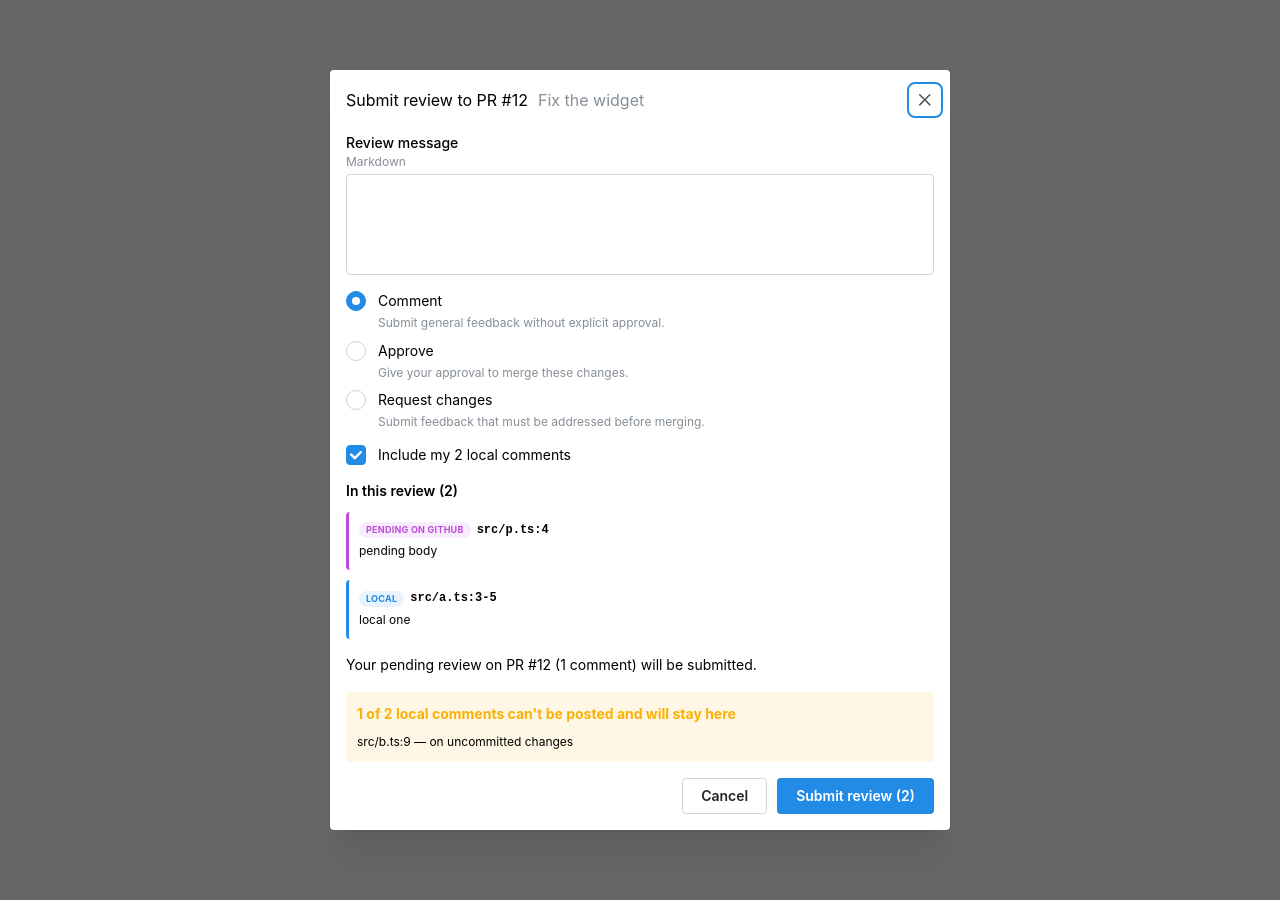
Test case: SubmitReviewModal › submits, closes and toasts
Expected: the text "In this review (2)" is shown, [346,482,458,499]
Click the radio button labelled "Approve". click: (356, 351)
box: [346,341,366,361]
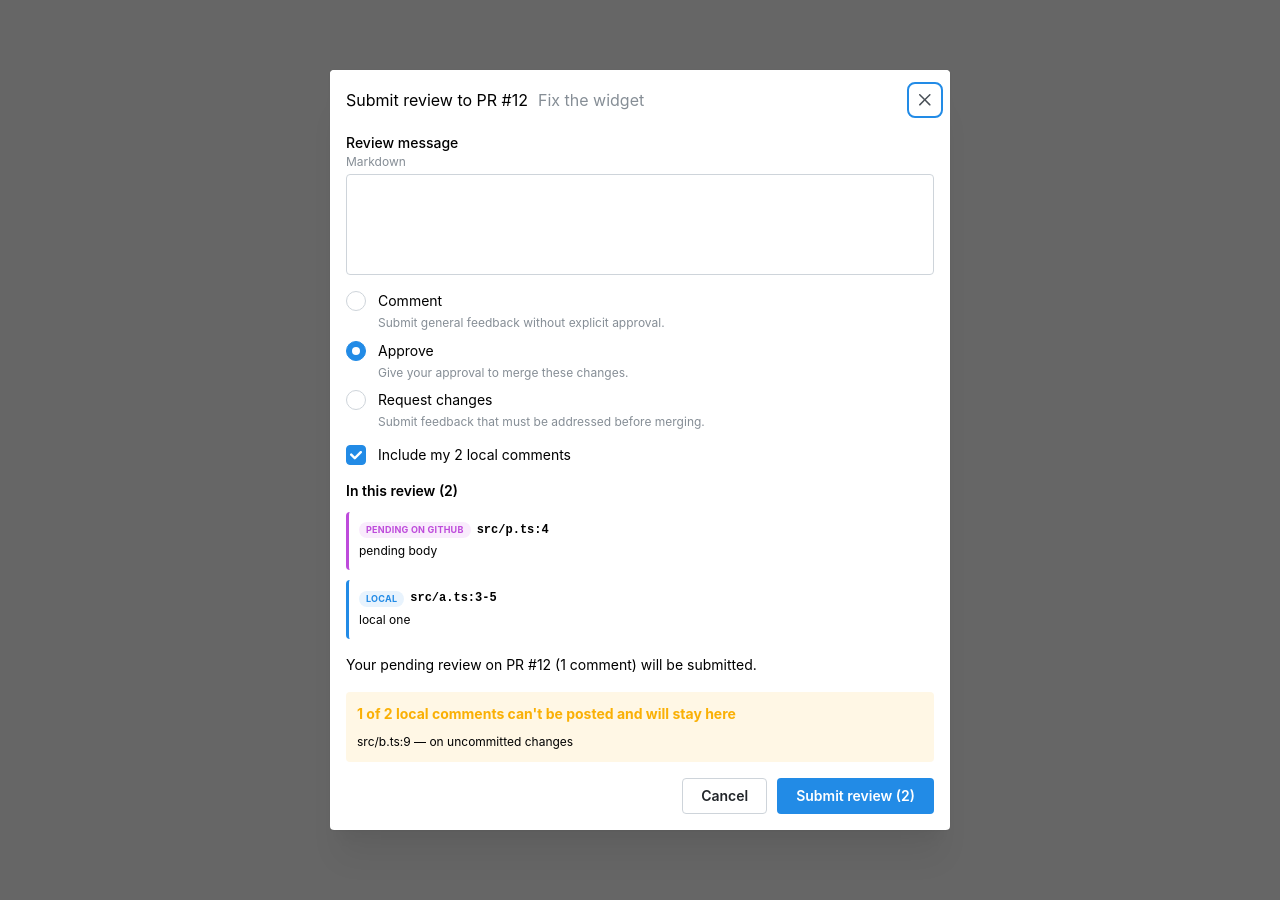
Click the button "Submit review (2)". click: (856, 796)
box: [777,778,934,814]
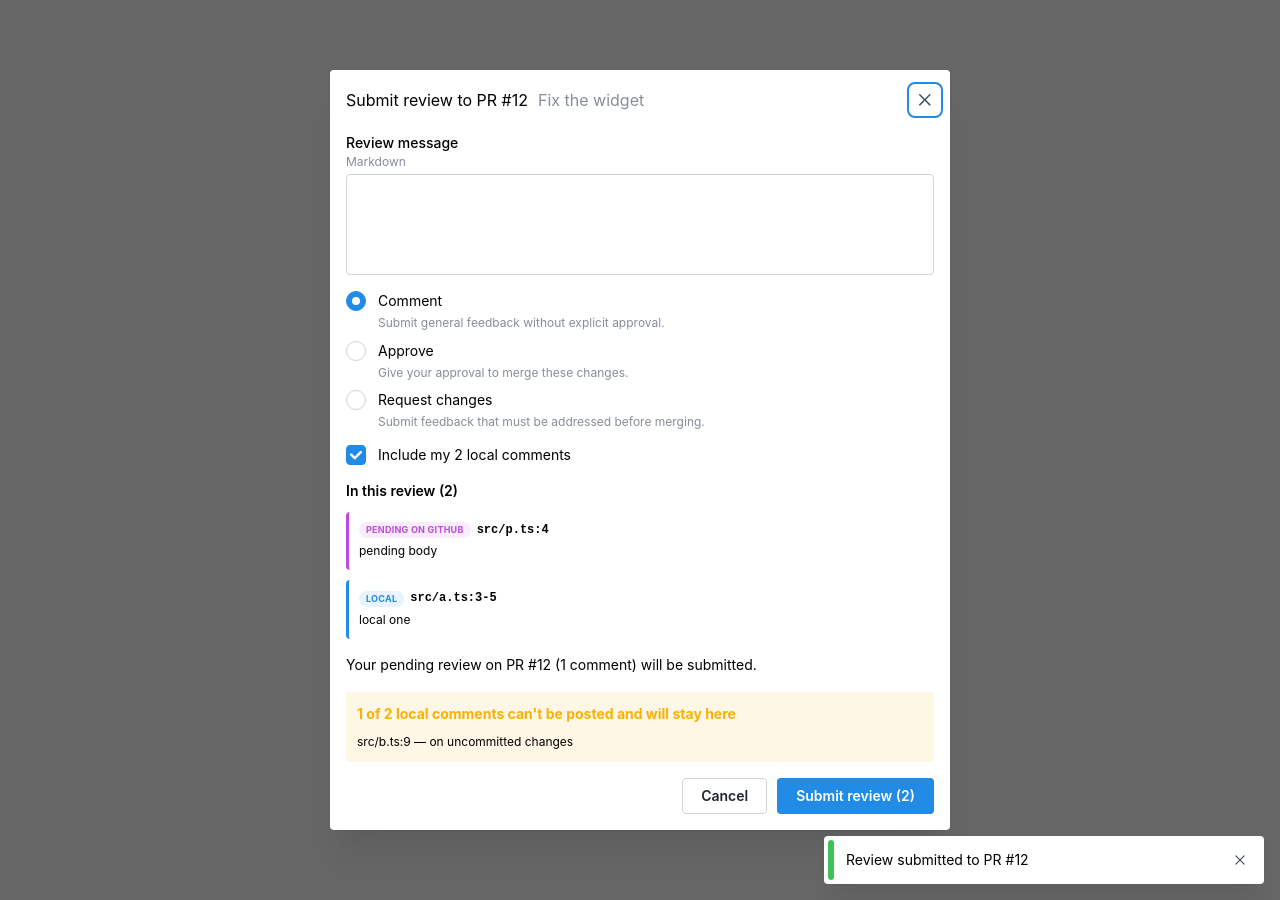
Now the text "Review submitted to PR #12" is shown, box [846,851,1029,868]
